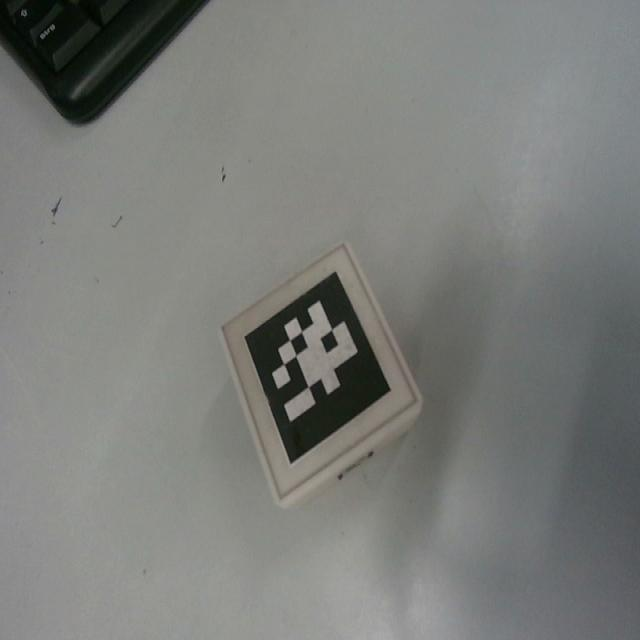Cube: (219, 239, 423, 508)
